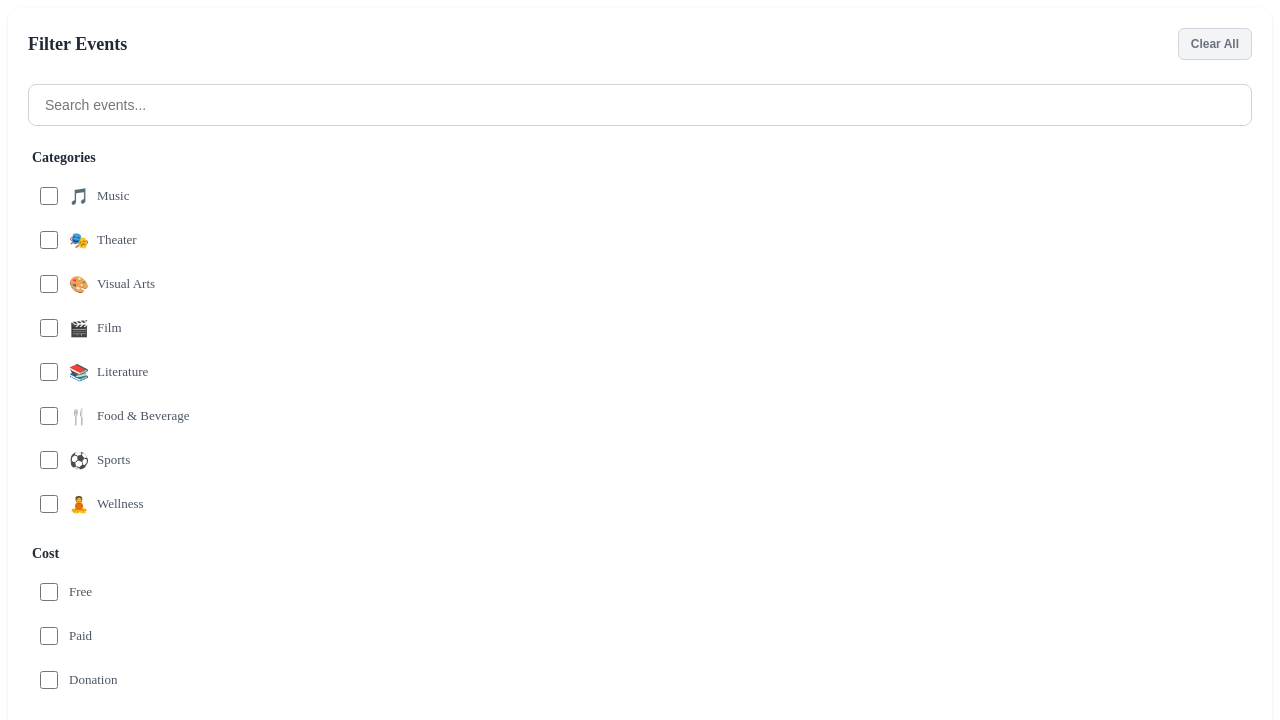
Scenario: EventFilter › clear filters › should clear all filters when clear button clicked
Click the checkbox labelled "🎵 Music" at point(49, 196), box [40, 187, 58, 205]
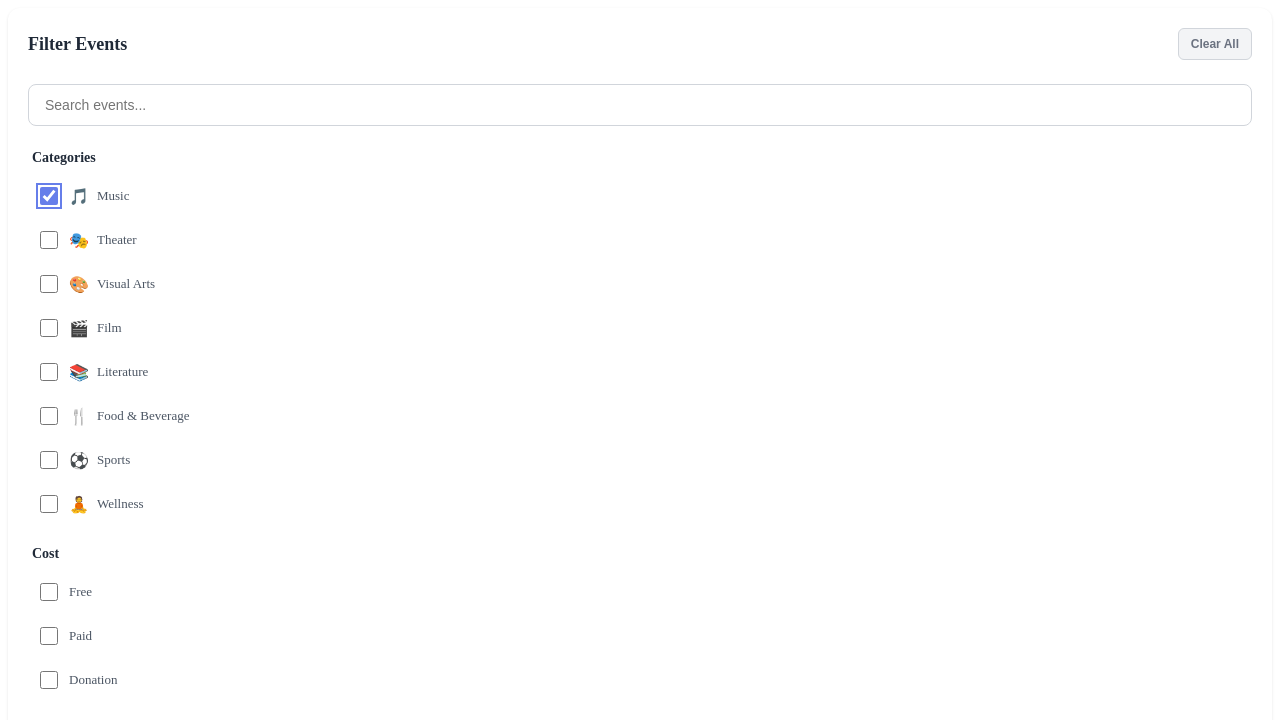
Type "test" into the field with placeholder "Search events..." at point(640, 105), box [28, 84, 1252, 126]
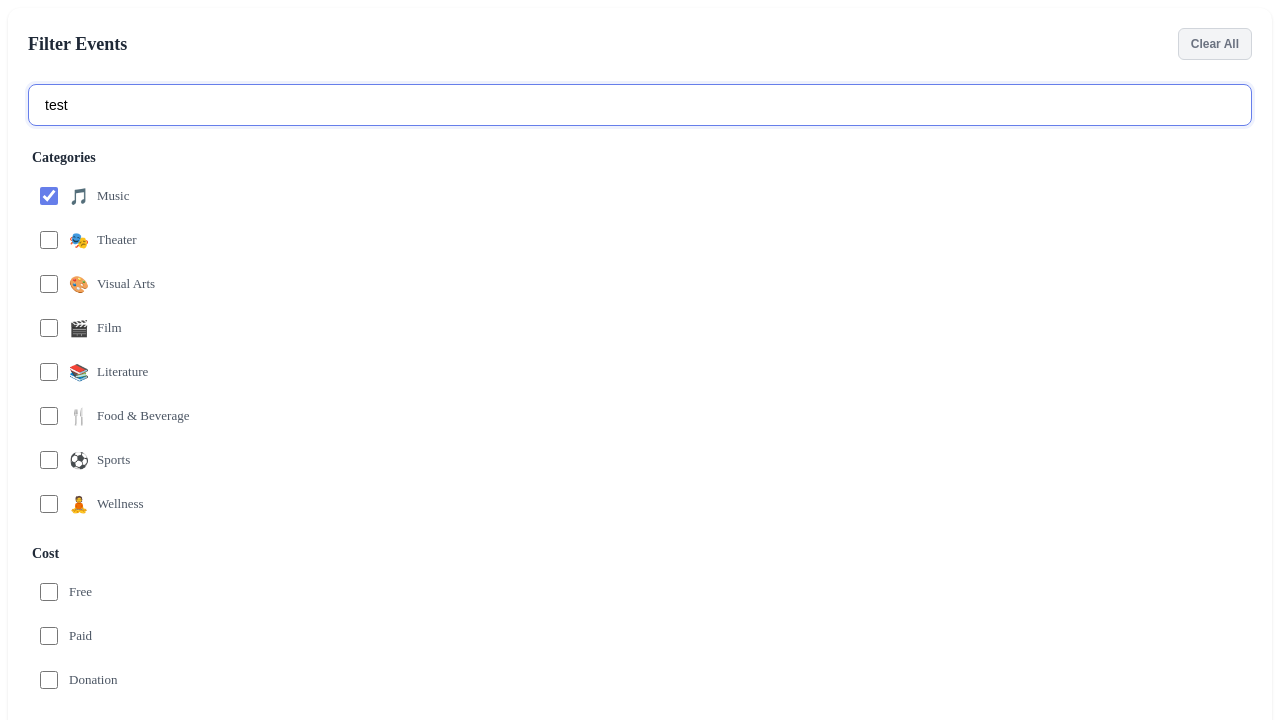
Now the checkbox labelled "🎵 Music" is checked, box [40, 187, 58, 205]
Click the button "Clear All" at point(1215, 44), box [1178, 28, 1252, 60]
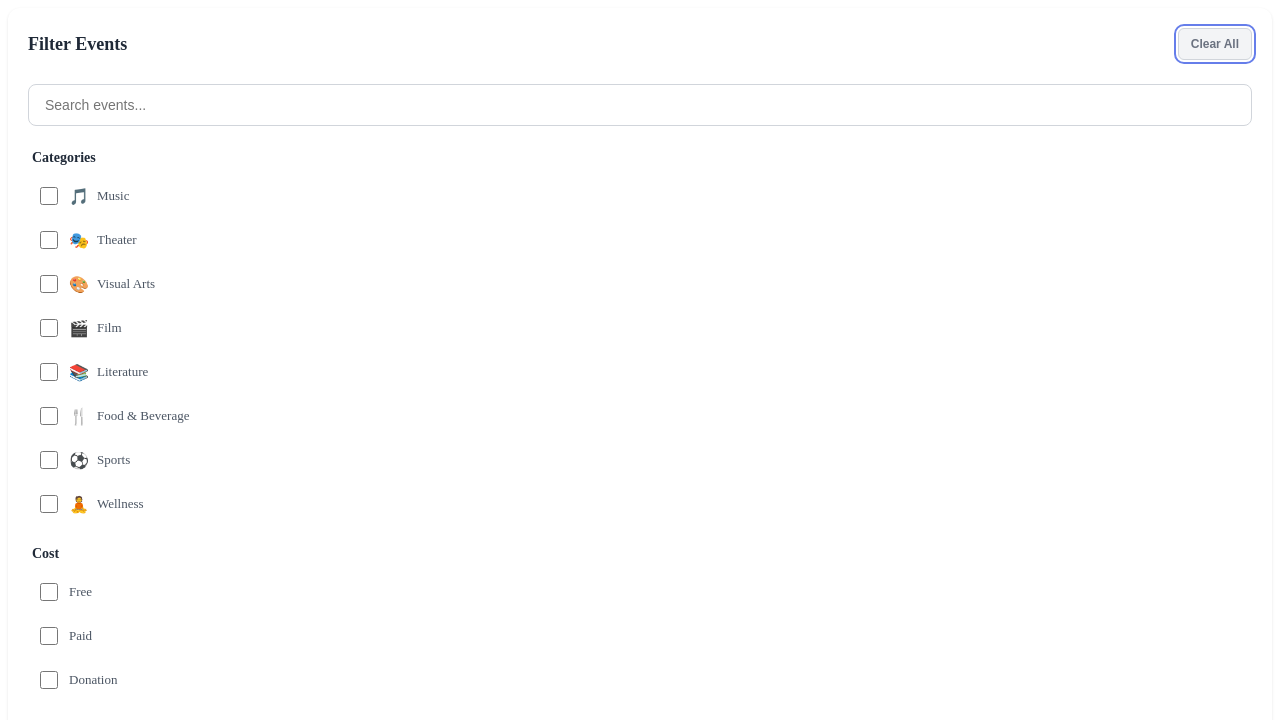
Now the checkbox labelled "🎵 Music" is not checked, box [40, 187, 58, 205]
Now the field with placeholder "Search events..." is empty, box [28, 84, 1252, 126]
